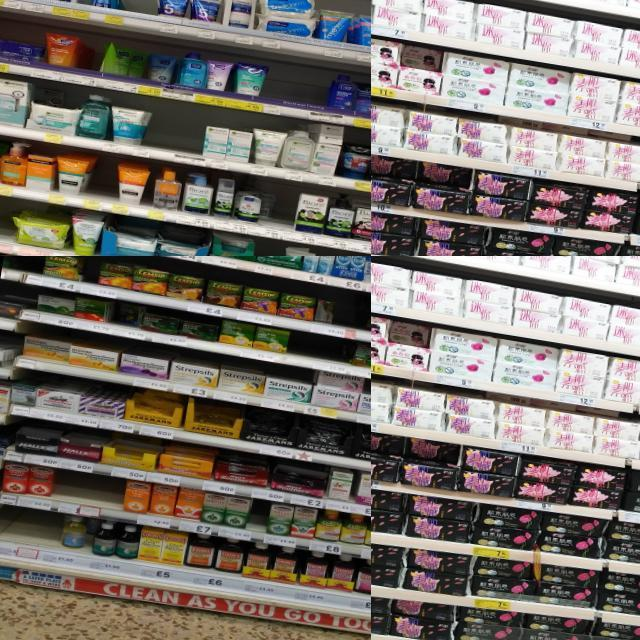Imprecise: (371, 159, 477, 210), (370, 439, 464, 488), (120, 22, 185, 86), (397, 44, 448, 100), (56, 506, 94, 561)
